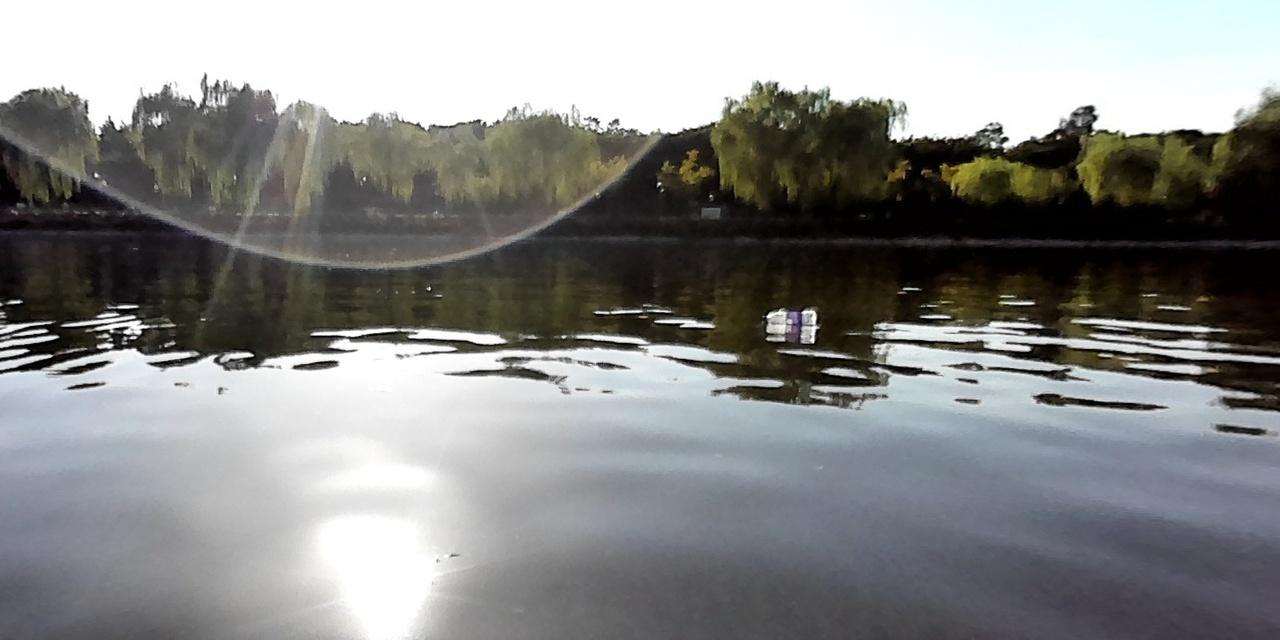bottle: (756, 304, 817, 327)
